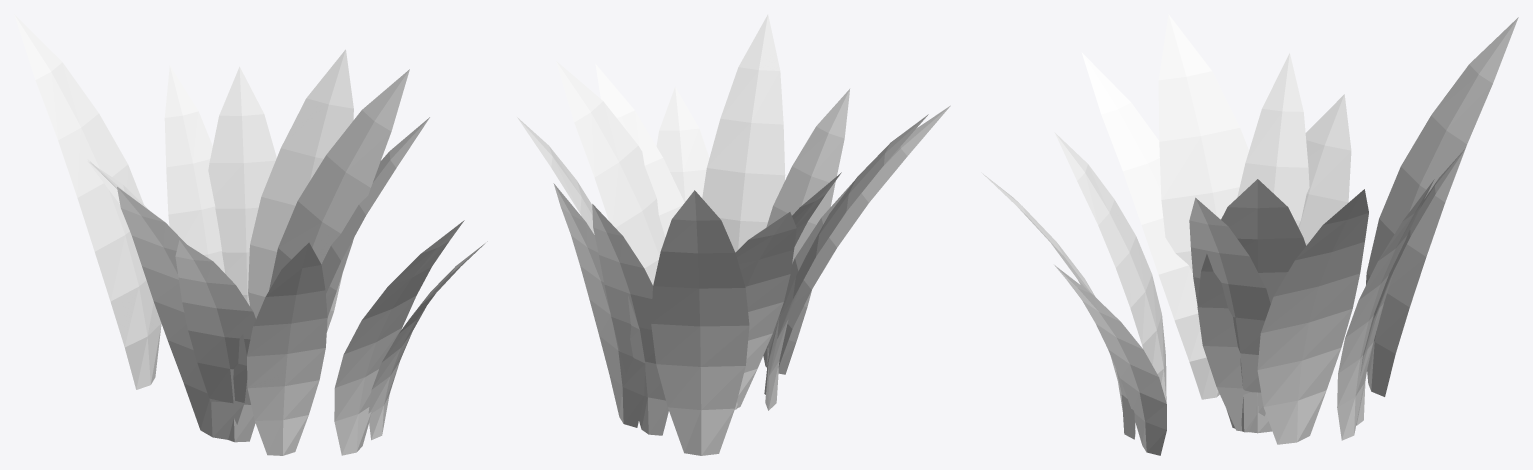
The model's file is grass_clump.obj.
The picture shows the model from 3 angles, left to right: view 1: azimuth 30°, elevation 25°; view 2: azimuth 150°, elevation 25°; view 3: azimuth 270°, elevation 25°; orthographic projection. The views are drawn at different scales.
Visible parts, largest first — view 1: part_7, part_6, part_0, part_5, part_10, part_9, part_1, part_11, part_2, part_8, part_3; view 2: part_7, part_11, part_0, part_2, part_12, part_10, part_6, part_1, part_9, part_3, part_8, part_5 (+1 smaller); view 3: part_5, part_7, part_9, part_0, part_1, part_8, part_6, part_4, part_3, part_10, part_12, part_11 (+1 smaller).
Boxes of the visible parts, <box> form: part_7: <box>14,14,161,389</box>; part_6: <box>247,242,327,455</box>; part_0: <box>269,69,409,316</box>; part_5: <box>248,49,353,332</box>; part_10: <box>208,66,276,305</box>; part_9: <box>117,187,247,439</box>; part_1: <box>175,240,255,442</box>; part_11: <box>334,220,464,455</box>; part_2: <box>164,65,225,273</box>; part_8: <box>321,117,429,293</box>; part_3: <box>368,241,487,440</box>; part_7: <box>651,190,749,455</box>; part_11: <box>702,14,785,252</box>; part_0: <box>556,61,665,285</box>; part_2: <box>592,204,668,435</box>; part_12: <box>735,212,796,407</box>; part_10: <box>553,183,645,427</box>; part_6: <box>763,88,850,374</box>; part_1: <box>764,105,950,394</box>; part_9: <box>765,114,928,410</box>; part_3: <box>656,87,709,202</box>; part_8: <box>595,64,684,236</box>; part_5: <box>517,117,594,234</box>; part_5: <box>1257,189,1368,444</box>; part_7: <box>1366,17,1518,396</box>; part_9: <box>1158,14,1248,271</box>; part_0: <box>1197,179,1305,433</box>; part_1: <box>1081,52,1219,399</box>; part_8: <box>1189,197,1270,432</box>; part_6: <box>1054,132,1166,402</box>; part_4: <box>1237,53,1309,226</box>; part_3: <box>1054,265,1166,455</box>; part_10: <box>1337,179,1434,440</box>; part_12: <box>1298,94,1351,245</box>; part_11: <box>981,172,1135,439</box>.
Bounding box in the file's own units: 1.19 × 1.13 × 1.61.
